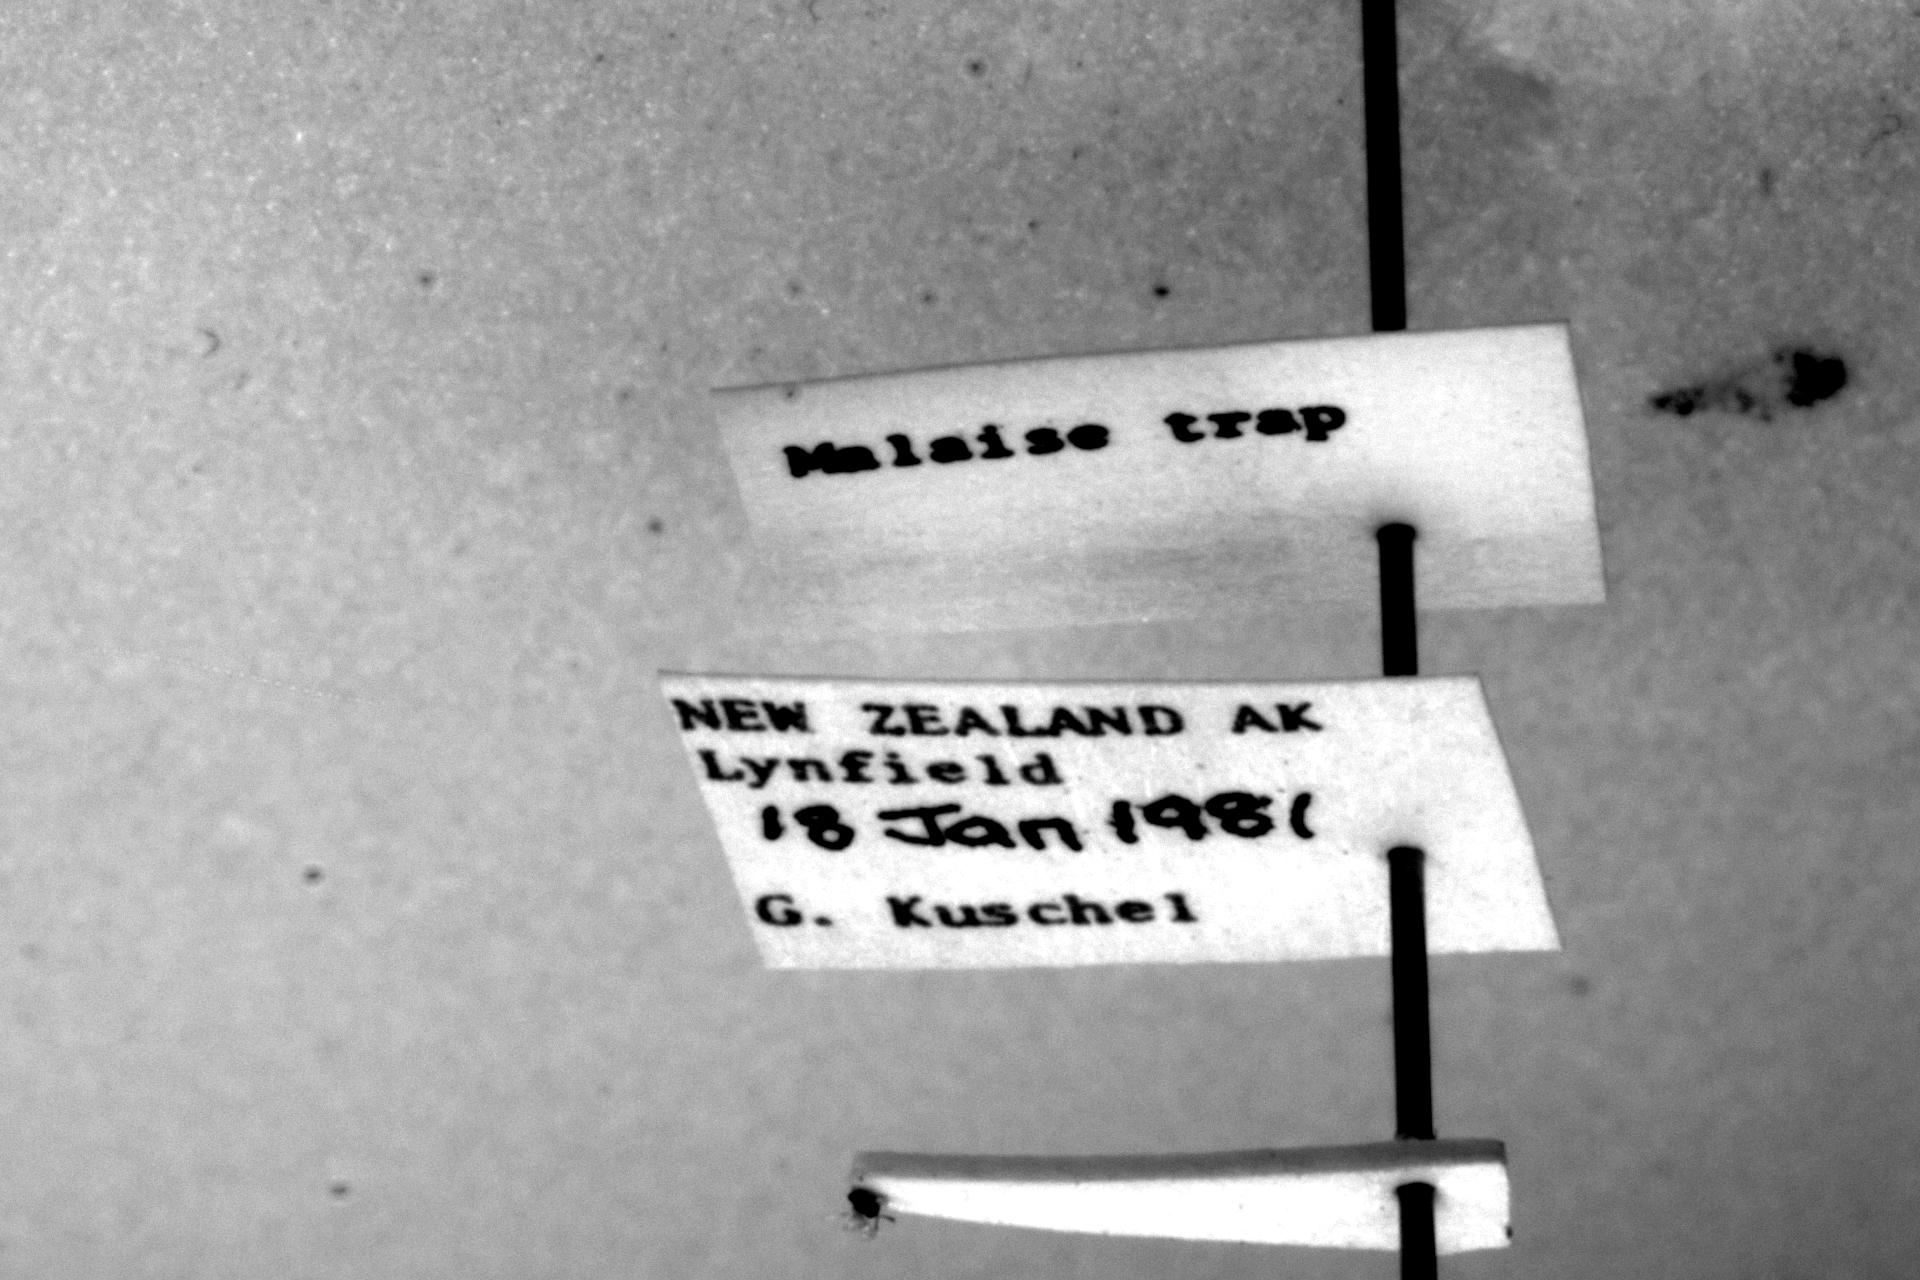mixed_label: (664, 674, 1560, 967)
typed_label: (713, 323, 1606, 641)
